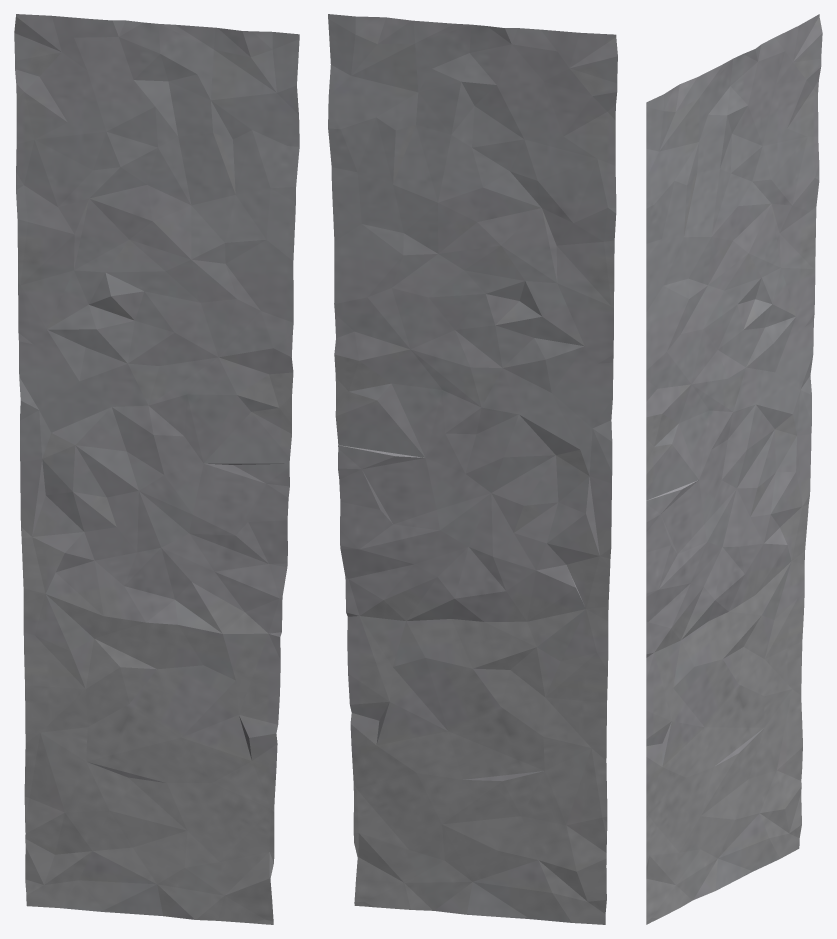
3 renders of one model, left to right at view 1: azimuth 30°, elevation 25°; view 2: azimuth 210°, elevation 25°; view 3: azimuth 270°, elevation 25°, orthographic. The views are drawn at different scales.
Bounding box in the file's own units: 0.1903 × 0.8374 × 0.1602.
Materials: 1 (1 with a texture image).
